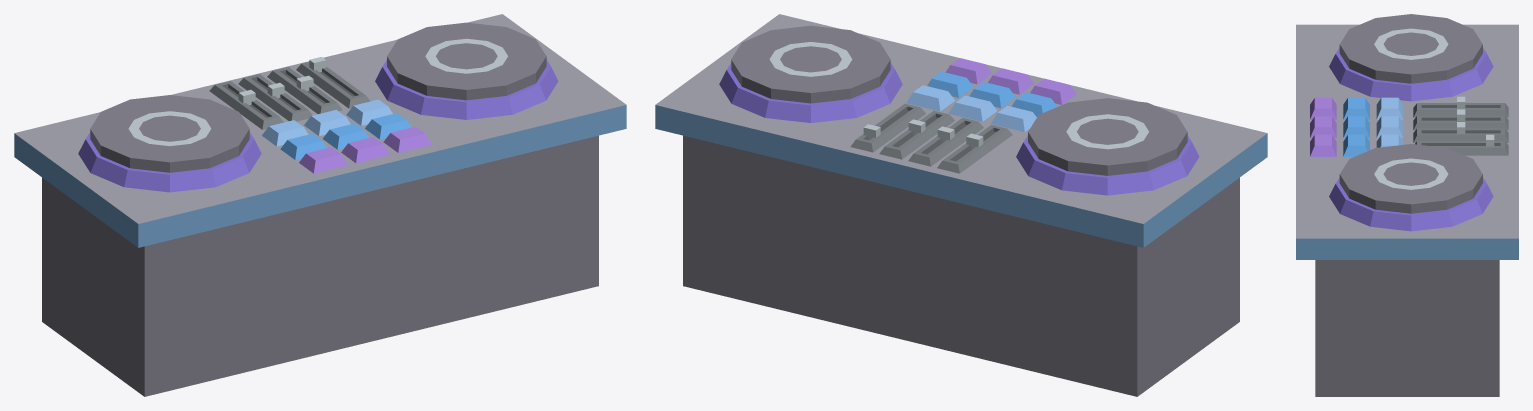
The model's file is DJ_Table_geo.fbx.
The picture shows the model from 3 angles, left to right: view 1: azimuth 30°, elevation 25°; view 2: azimuth 150°, elevation 25°; view 3: azimuth 270°, elevation 25°; orthographic projection. The views are drawn at different scales.
Parts seen in each view (by area): view 1: DJ_Table_geo; view 2: DJ_Table_geo; view 3: DJ_Table_geo.
Boxes of the visible parts, x1,y1,x2,y2 form: DJ_Table_geo: (14, 14, 626, 396); DJ_Table_geo: (655, 14, 1267, 396); DJ_Table_geo: (1296, 14, 1518, 396).
Size of the model in its own units: 1.88 by 0.8284 by 0.7723.
